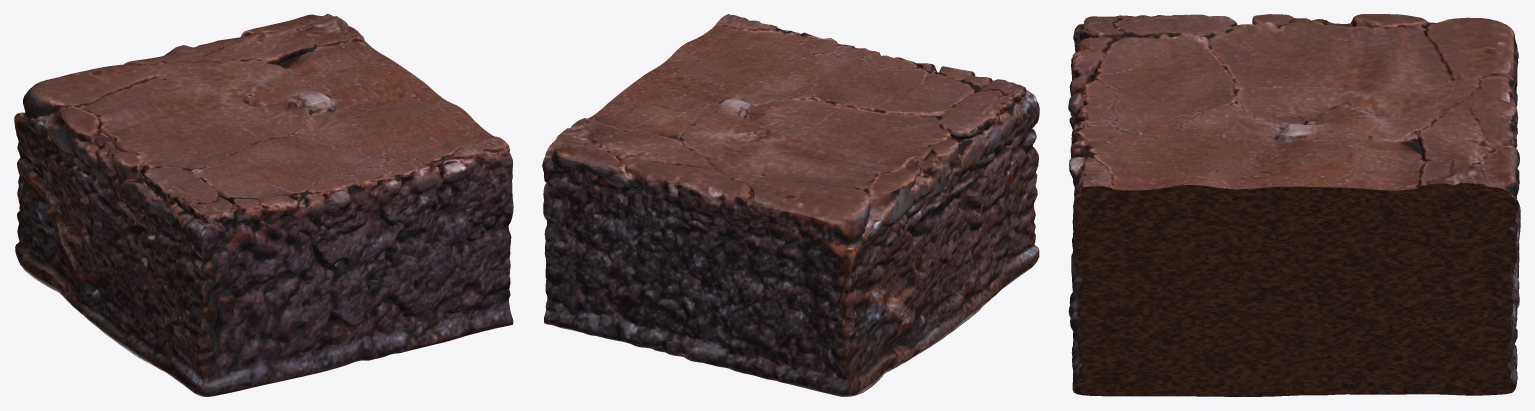
3 renders of one model, left to right at view 1: azimuth 30°, elevation 25°; view 2: azimuth 150°, elevation 25°; view 3: azimuth 270°, elevation 25°, orthographic. The views are drawn at different scales.
Parts seen in each view (by area): view 1: brownie-physical-calibration-80x35x65mm; view 2: brownie-physical-calibration-80x35x65mm; view 3: brownie-physical-calibration-80x35x65mm.
Boxes of the visible parts, left/top/right/bottom form: brownie-physical-calibration-80x35x65mm: left=14, top=14, right=513, bottom=396; brownie-physical-calibration-80x35x65mm: left=542, top=14, right=1039, bottom=396; brownie-physical-calibration-80x35x65mm: left=1068, top=14, right=1520, bottom=396.
Size of the model in its own units: 0.06 by 0.035 by 0.065.
2 materials, 2 textured.
